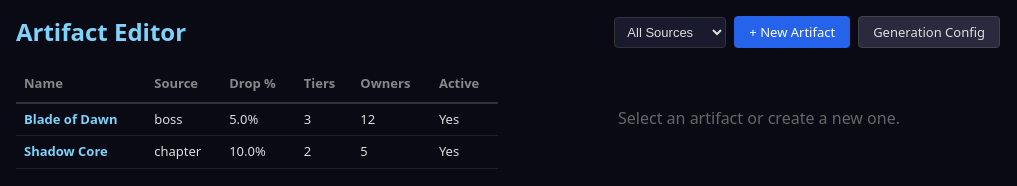
Test: ArtifactEditor › filters by source type
The image size is (1017, 186).
expect the text "Blade of Dawn" is shown: met, box left=16, top=102, right=146, bottom=136
Select "chapter" in the dropdown showing "All Sources" at (670, 32), box left=614, top=16, right=726, bottom=48
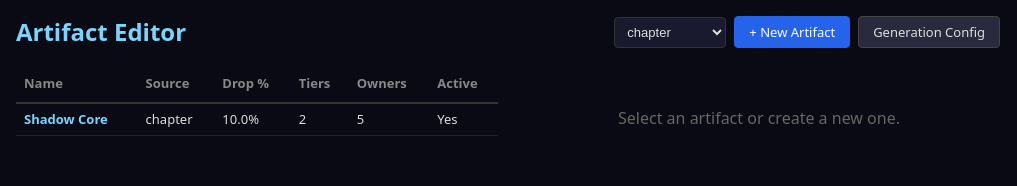
expect the text "Shadow Core" is shown: met, box left=16, top=102, right=138, bottom=136
expect the text "Blade of Dawn" is gone: met
